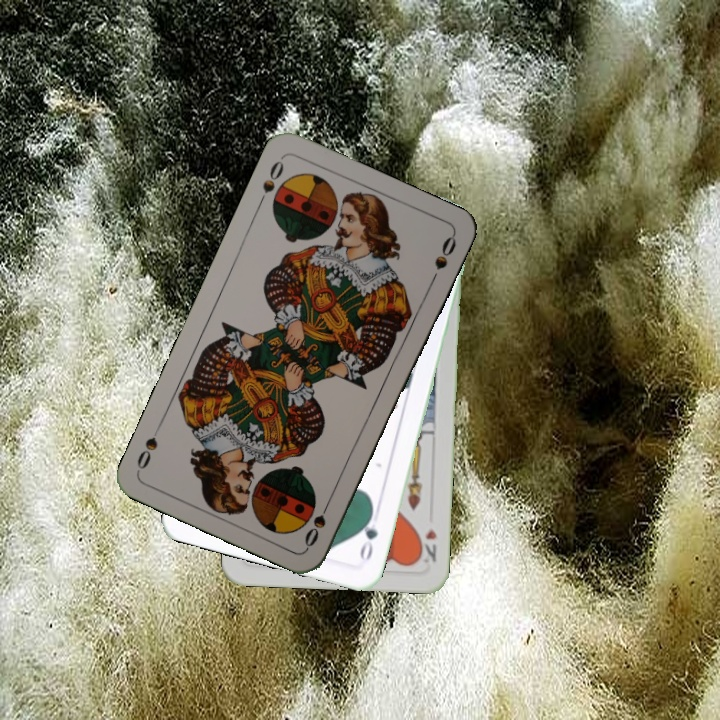GO: (355, 506, 381, 565)
HK: (414, 524, 439, 566)
SO: (300, 494, 334, 550), (254, 154, 287, 209)
